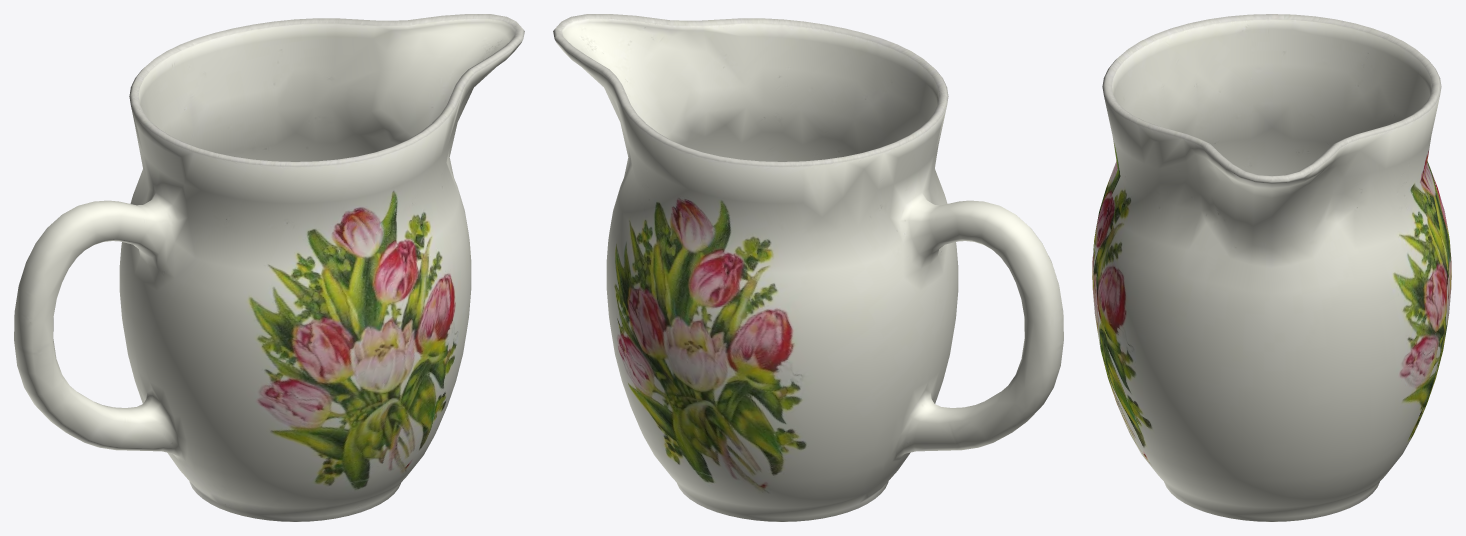
File: jug_01.glb
3 views of the same model, side by side, from view 1: azimuth 30°, elevation 25°; view 2: azimuth 150°, elevation 25°; view 3: azimuth 270°, elevation 25° (orthographic). The views are drawn at different scales.
Parts seen in each view (by area): view 1: jug_01; view 2: jug_01; view 3: jug_01.
Part boxes in pixels (x1,y1,x2,y2): jug_01: [14, 14, 524, 521]; jug_01: [553, 14, 1063, 521]; jug_01: [1092, 14, 1451, 521].
Bounding box in the file's own units: 0.2753 × 0.2113 × 0.1675.
Materials: 1 (1 with a texture image).
